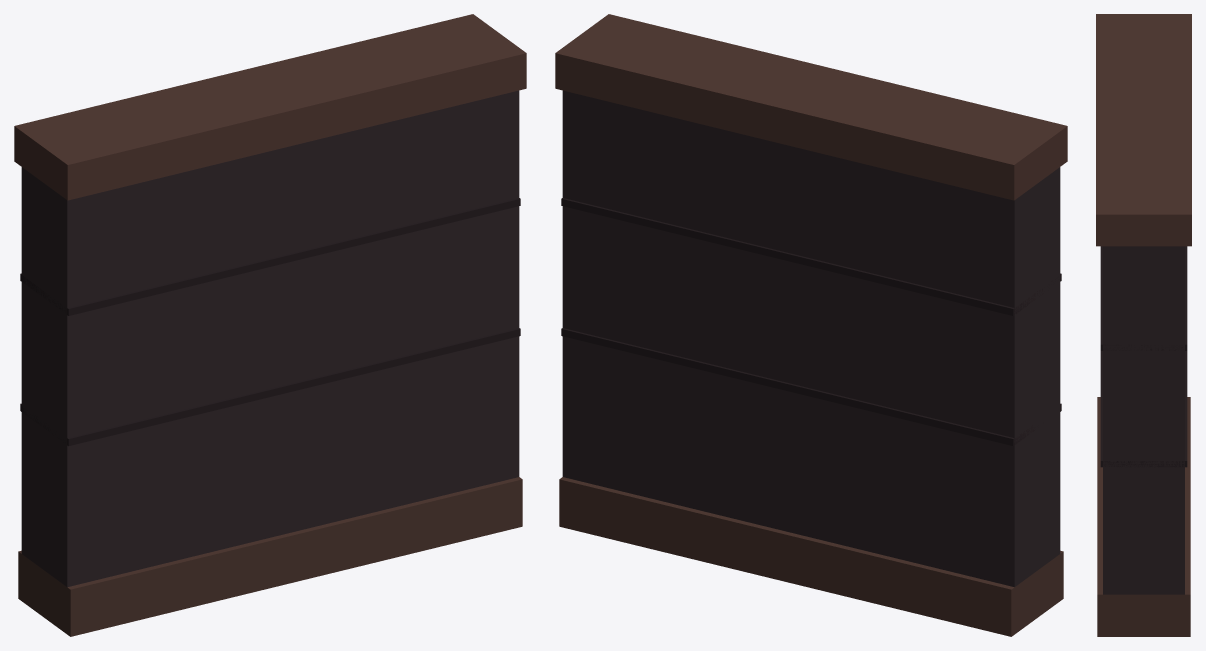
The model's file is wall_4m.glb.
3 renders of one model, left to right at view 1: azimuth 30°, elevation 25°; view 2: azimuth 150°, elevation 25°; view 3: azimuth 270°, elevation 25°, orthographic. The views are drawn at different scales.
Parts seen in each view (by area): view 1: wall_4m; view 2: wall_4m; view 3: wall_4m.
Part boxes in pixels (<box>): wall_4m: <box>14,14,526,636</box>; wall_4m: <box>555,14,1067,636</box>; wall_4m: <box>1096,14,1191,636</box>.
Size of the model in its own units: 4.06 by 4 by 0.82.
